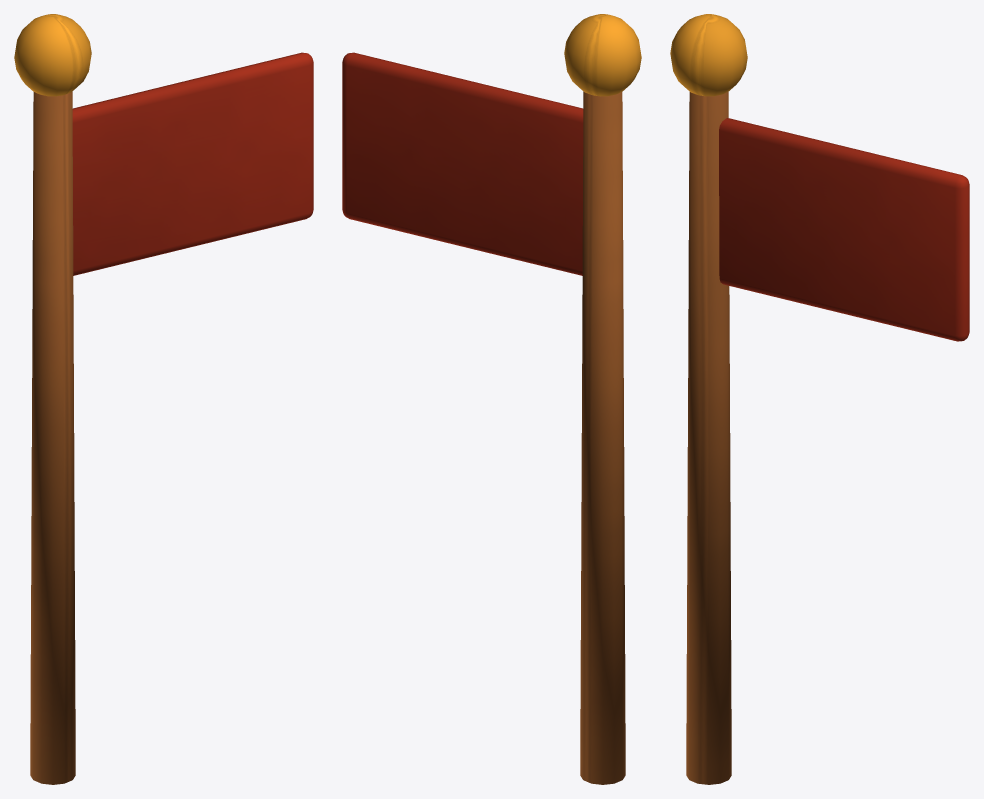
The model's file is Flag.fbx.
3 views of the same model, side by side, from view 1: azimuth 30°, elevation 25°; view 2: azimuth 150°, elevation 25°; view 3: azimuth 330°, elevation 25° (orthographic).
Visible parts, largest first — view 1: Flag; view 2: Flag; view 3: Flag.
Boxes of the visible parts, <box> form: Flag: <box>14,14,313,784</box>; Flag: <box>342,14,641,784</box>; Flag: <box>670,14,969,784</box>.
Size of the model in its own units: 52 by 129 by 12.
Materials: 1 (1 with a texture image).
